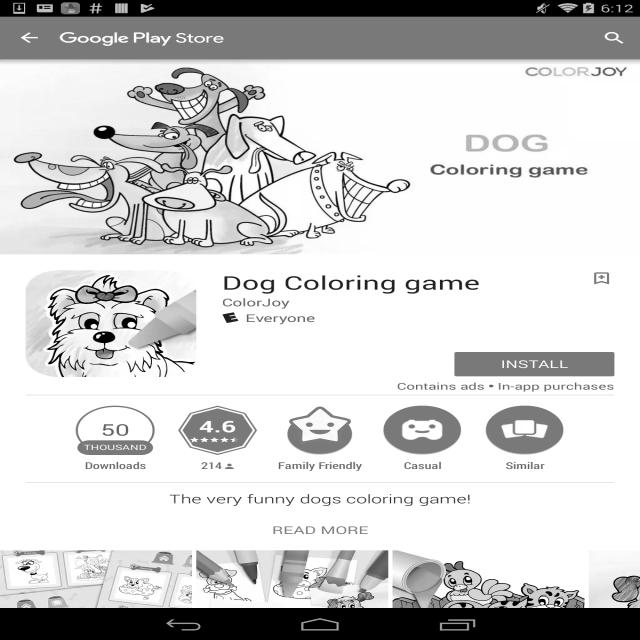Button: (170, 406, 264, 472), (273, 406, 367, 472), (376, 406, 470, 472), (478, 406, 572, 472), (454, 352, 614, 376)
ImageButton: (0, 17, 60, 59)
ImageView: (0, 59, 640, 254), (26, 270, 196, 377), (0, 550, 192, 640), (196, 550, 388, 640), (392, 550, 584, 640), (589, 550, 640, 640), (383, 406, 462, 455), (486, 406, 564, 455), (287, 414, 353, 455), (60, 30, 224, 46), (289, 406, 351, 444), (589, 270, 614, 286), (222, 312, 239, 323), (225, 464, 234, 469)
TextView: (0, 490, 640, 519), (0, 519, 640, 537), (222, 270, 589, 295), (589, 22, 640, 54), (68, 455, 162, 472), (273, 455, 367, 472), (376, 455, 470, 472), (478, 455, 572, 472), (498, 380, 614, 392), (397, 380, 485, 392), (245, 311, 316, 325), (222, 295, 289, 309), (199, 415, 236, 437), (100, 420, 130, 440), (82, 443, 148, 452), (201, 455, 222, 472)
